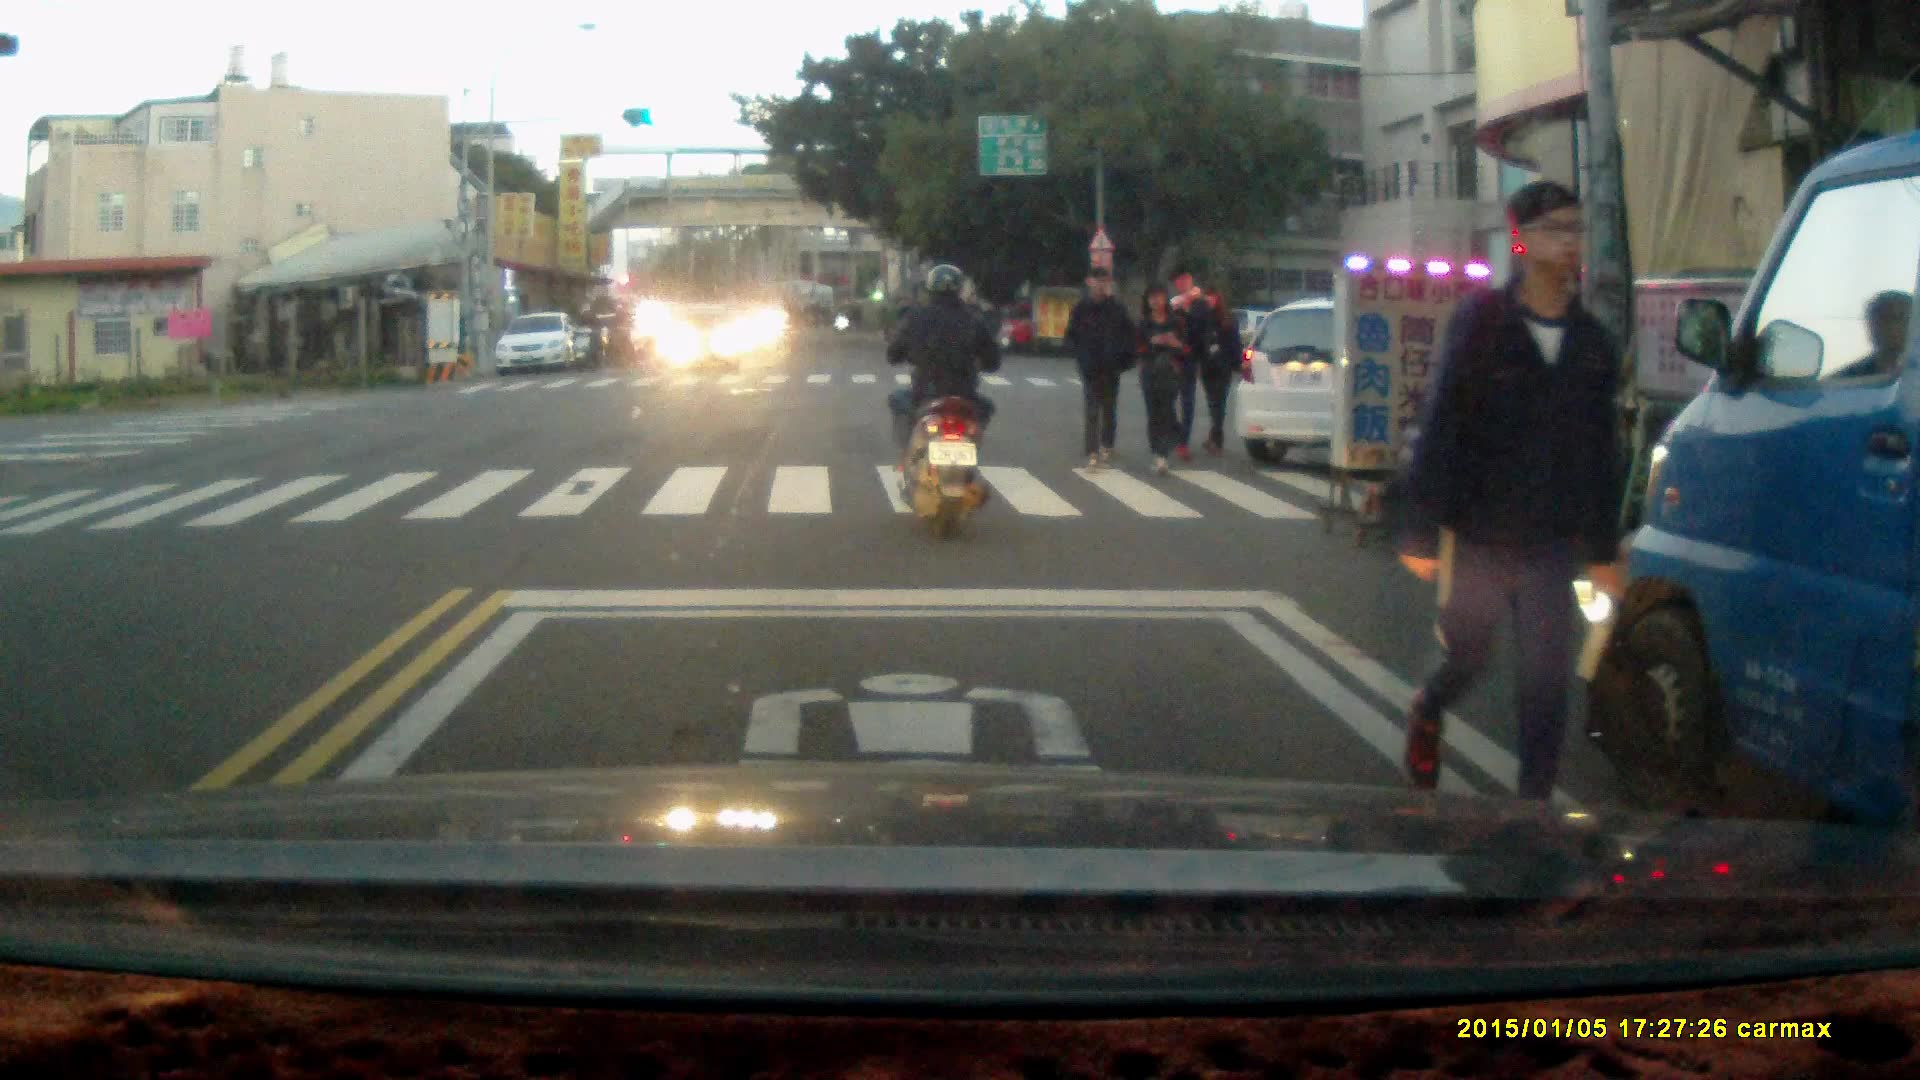pedestrian: (1393, 174, 1628, 838), (1063, 263, 1131, 472), (1130, 280, 1191, 481), (1161, 265, 1206, 468), (1192, 284, 1243, 460)
rider: (883, 261, 1010, 543), (570, 298, 602, 373), (602, 295, 636, 370)
vehicle: (1593, 128, 1920, 891), (1235, 303, 1555, 467), (650, 302, 744, 375), (493, 311, 584, 378)
